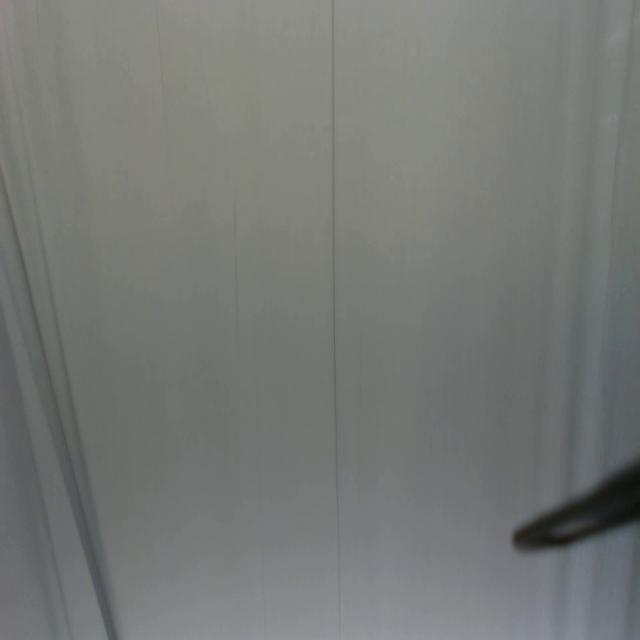crease: (0, 158, 124, 640), (326, 0, 344, 640), (231, 192, 243, 351), (151, 0, 169, 97)
